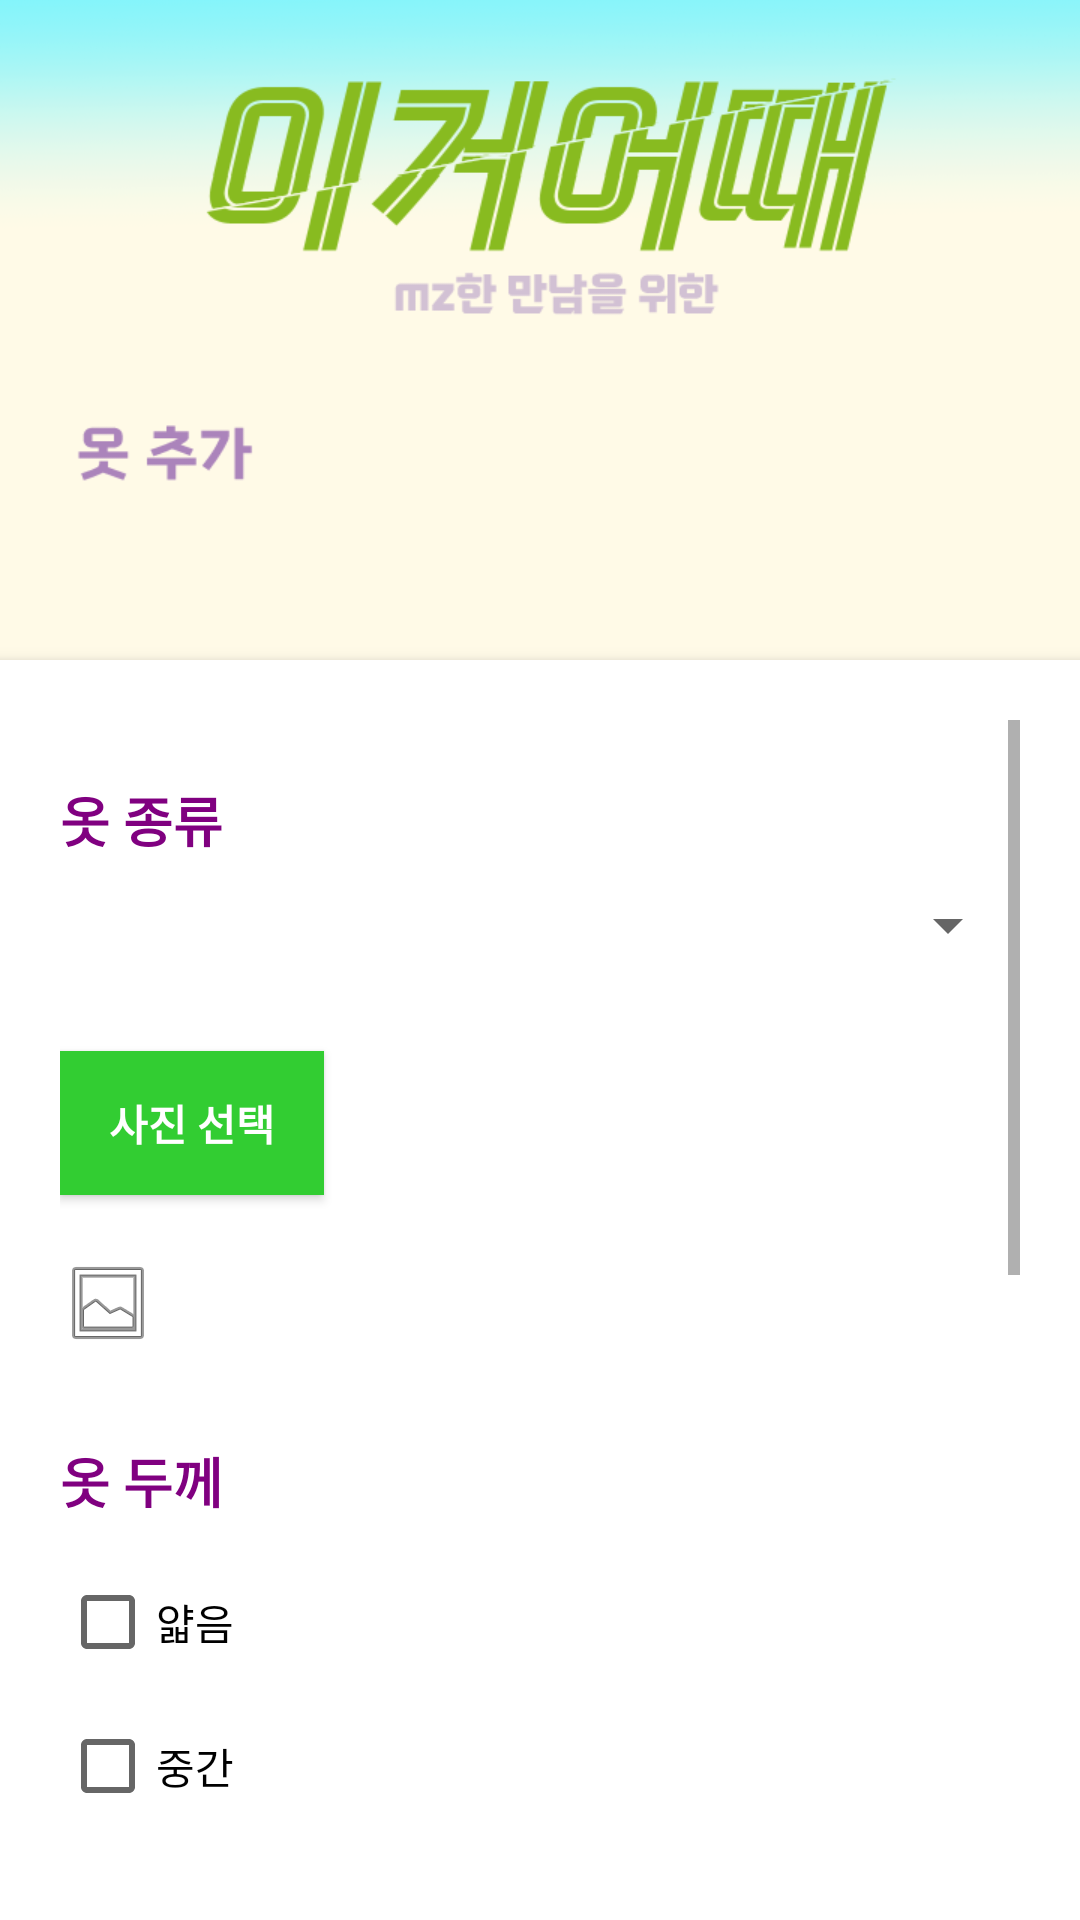

Screen size 1080 x 1920. Icon name, then its center in pixels as (x,y):
gallery: (108,1303)
